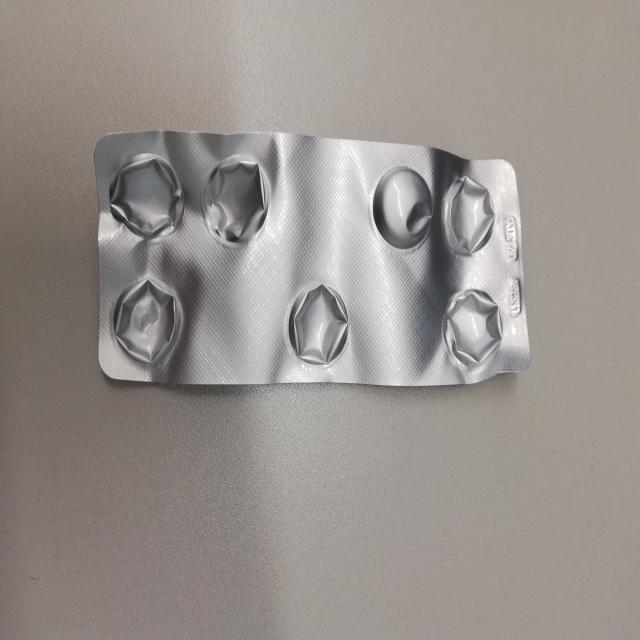Empty: (110, 272, 188, 366), (200, 150, 272, 250), (109, 152, 185, 245), (284, 280, 352, 368), (441, 286, 505, 371), (441, 172, 497, 258)
Pill: (369, 162, 435, 252)
